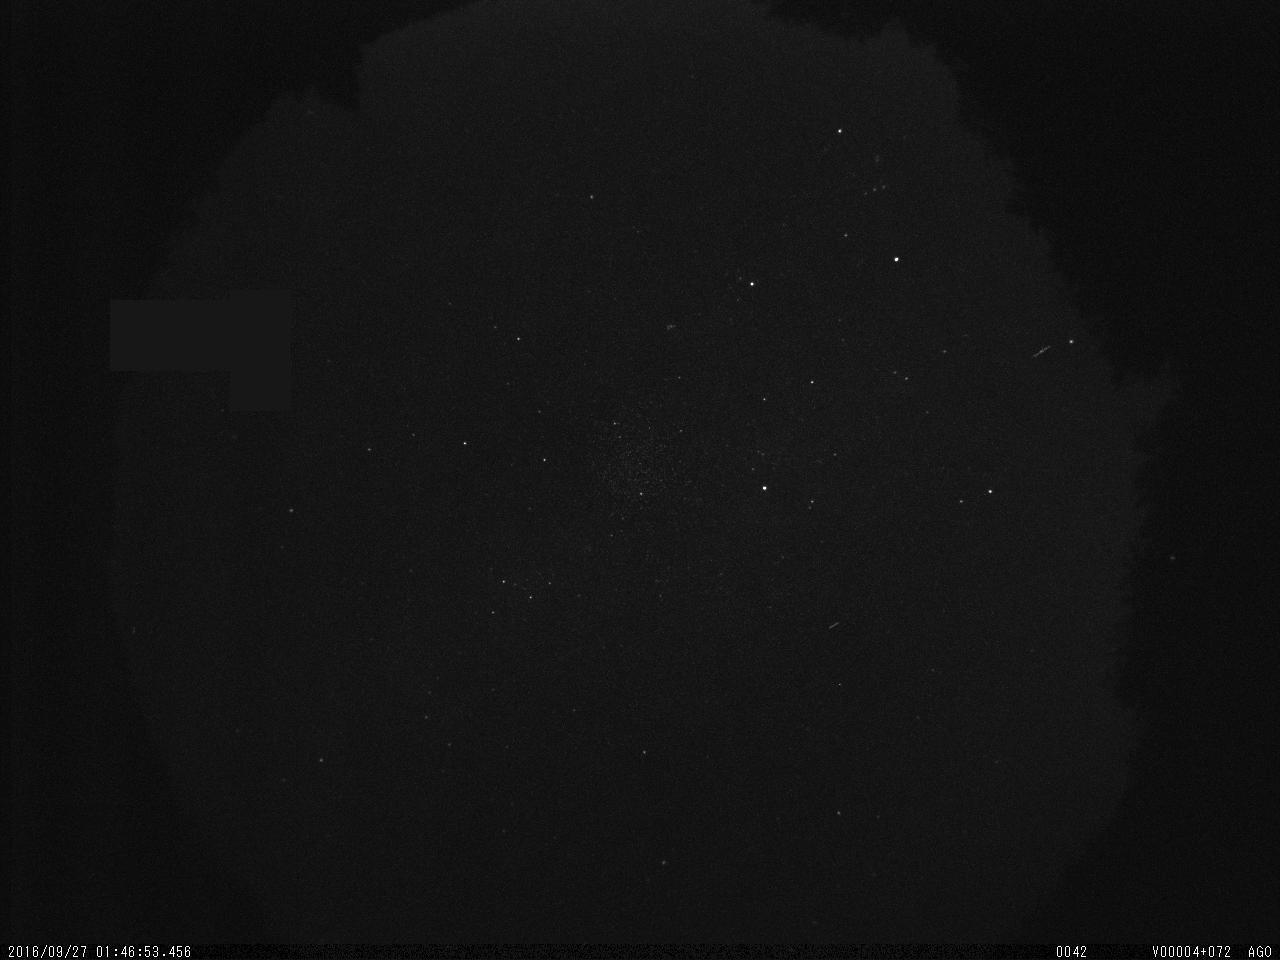meteor: (1023, 335, 1059, 365)
